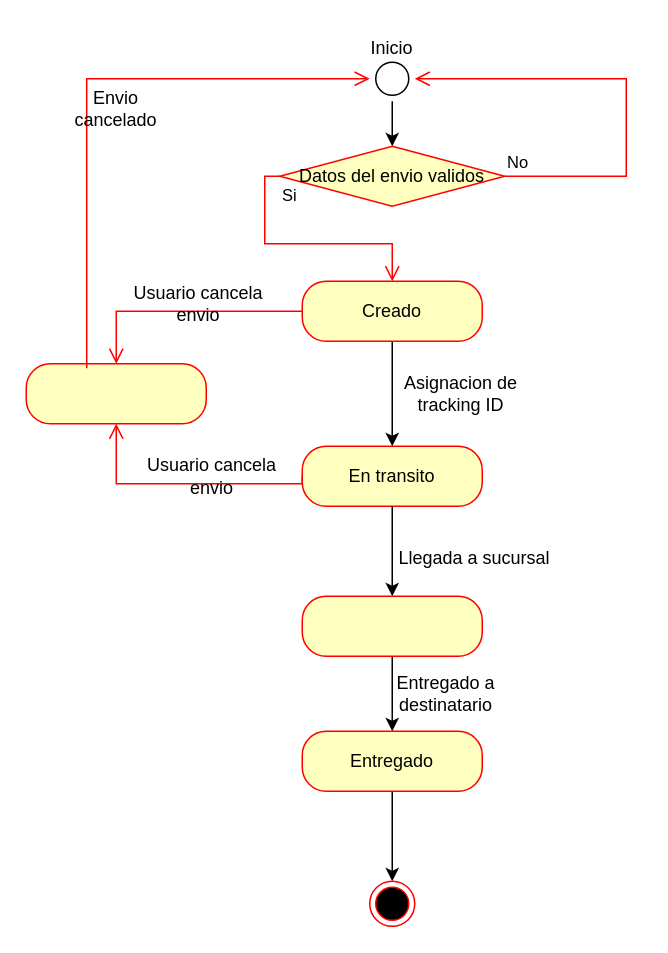
Some shapes in this 668 by 953 pixel diagram are drawn without their labels. Here are the shapes that lost their labels. From the top down, the centre of each, then its label:
At (115,393): "Cancelado".
At (391,625): "En sucrusal".
